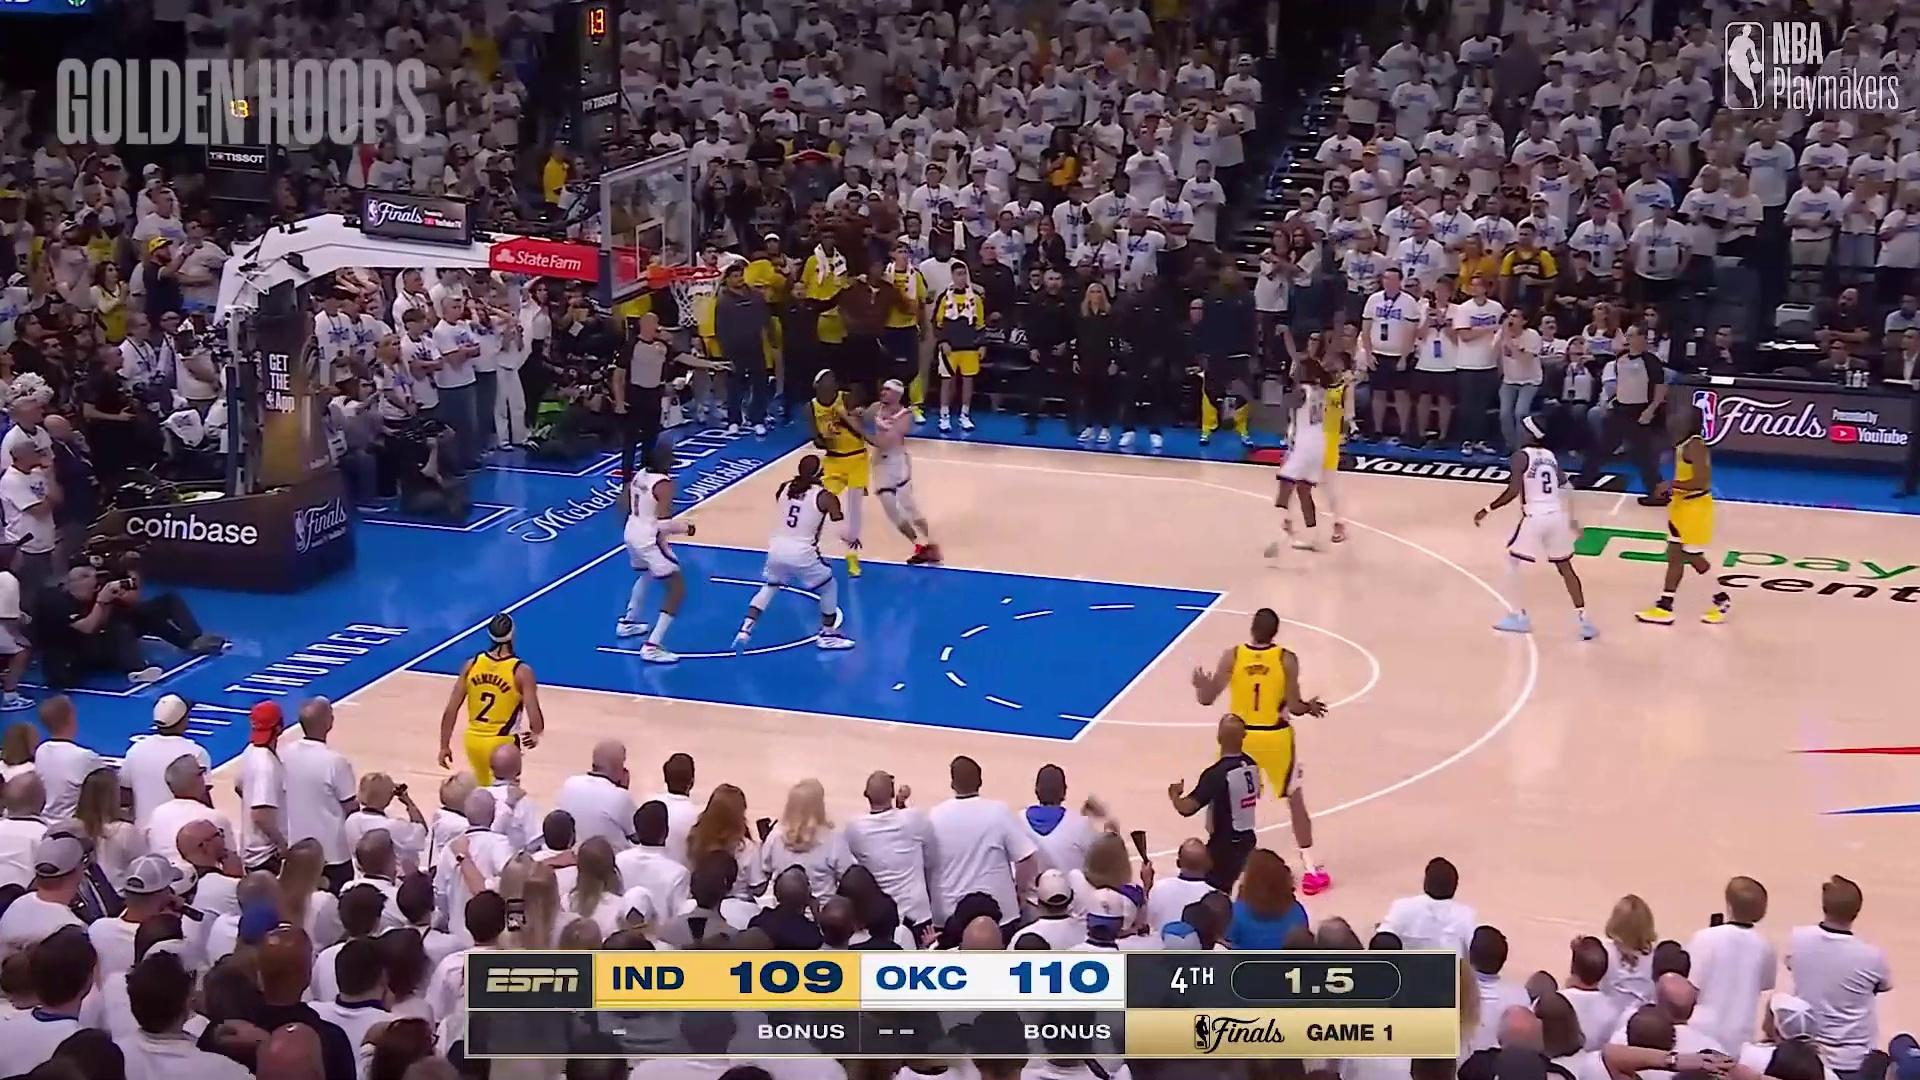hoop: (673, 260, 723, 327)
